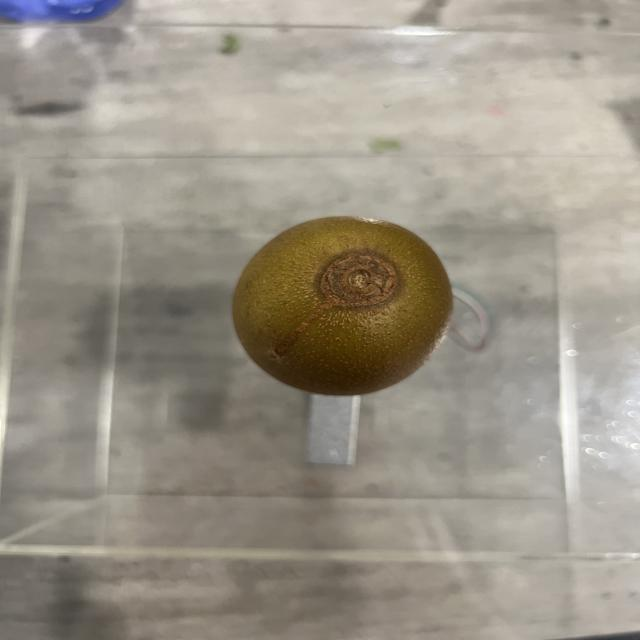kiwi: (232, 215, 458, 396)
